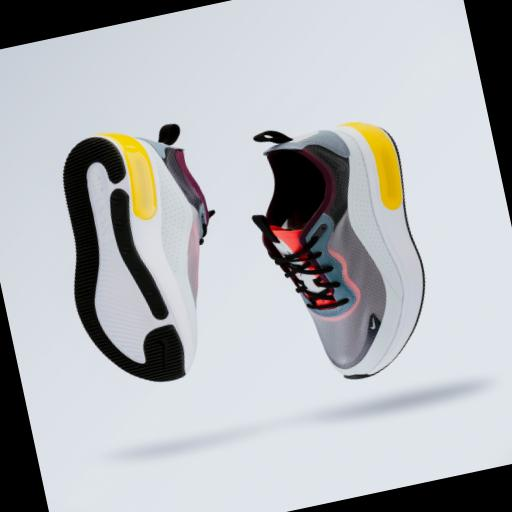shoe: (253, 123, 424, 378), (64, 125, 213, 381)
